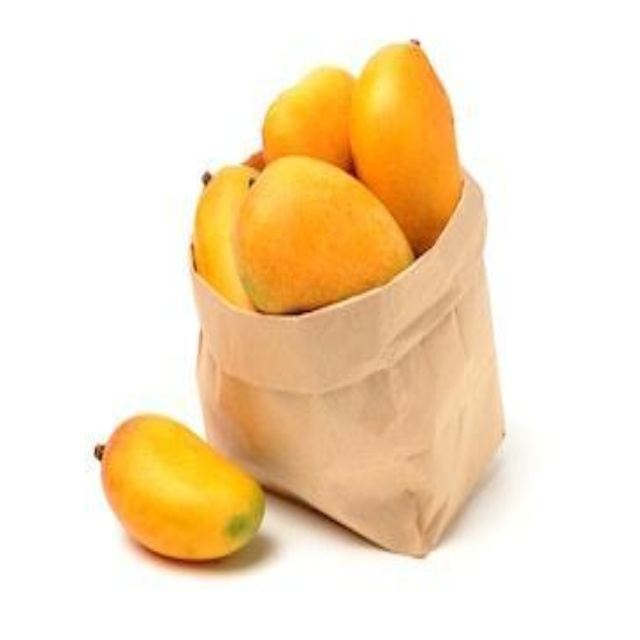mango: (233, 162, 423, 308), (349, 35, 473, 257), (97, 412, 265, 573), (253, 65, 367, 178)
